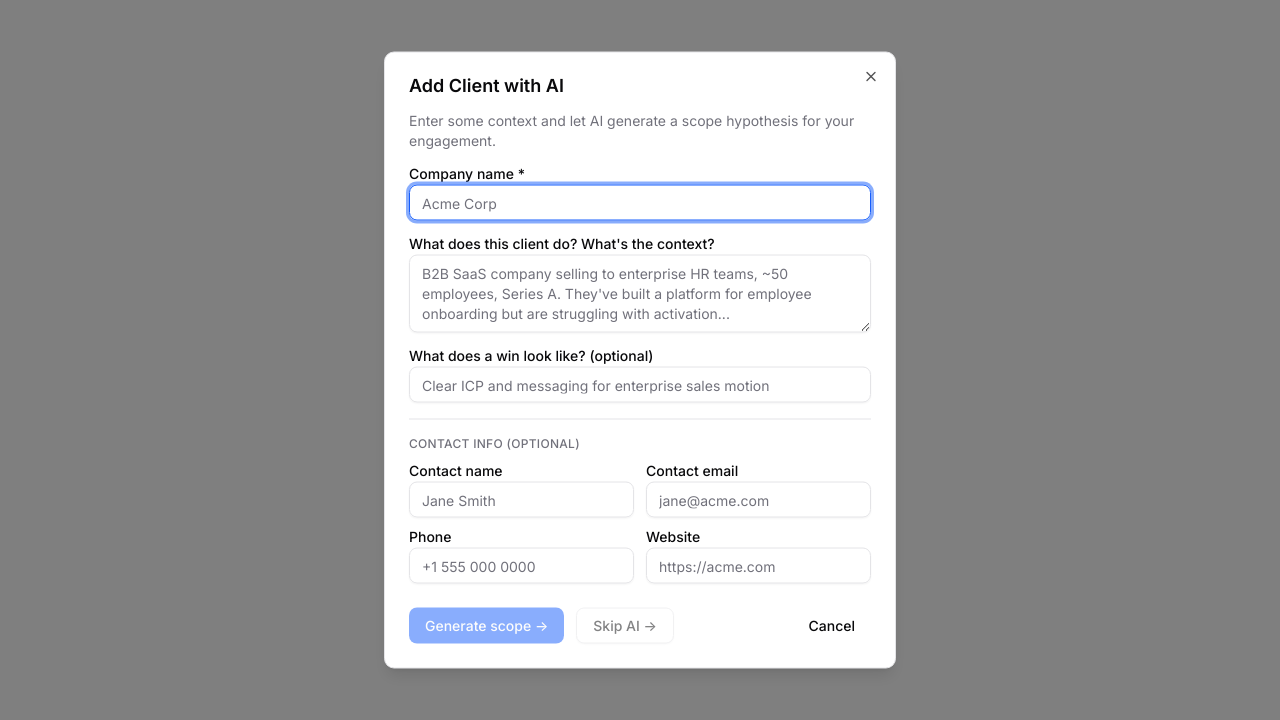
Test case: ClientIntakeWizard — Step 2 error handling › shows Settings mention on 422 API key error
Type "Acme" into the field labelled "Company name *" at {"x": 640, "y": 202}, box [409,184,871,220]
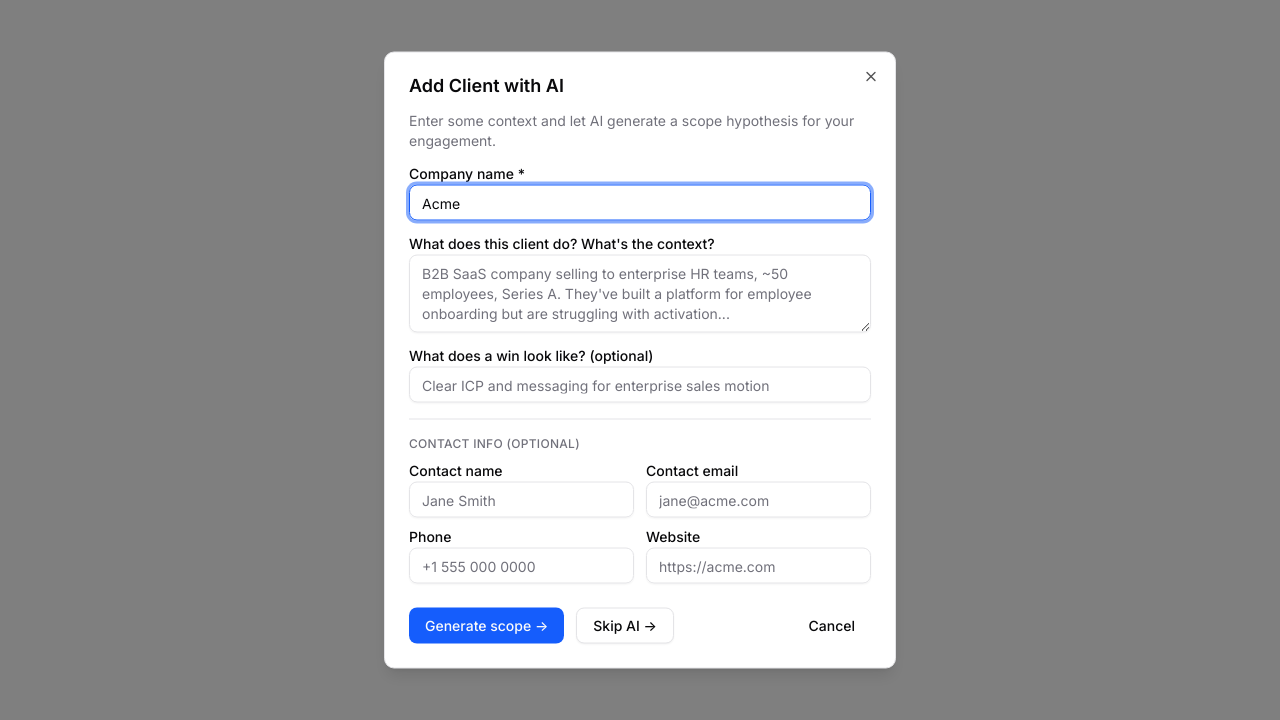
Click the button "Generate scope →" at {"x": 487, "y": 626}, box [409,608,564,644]
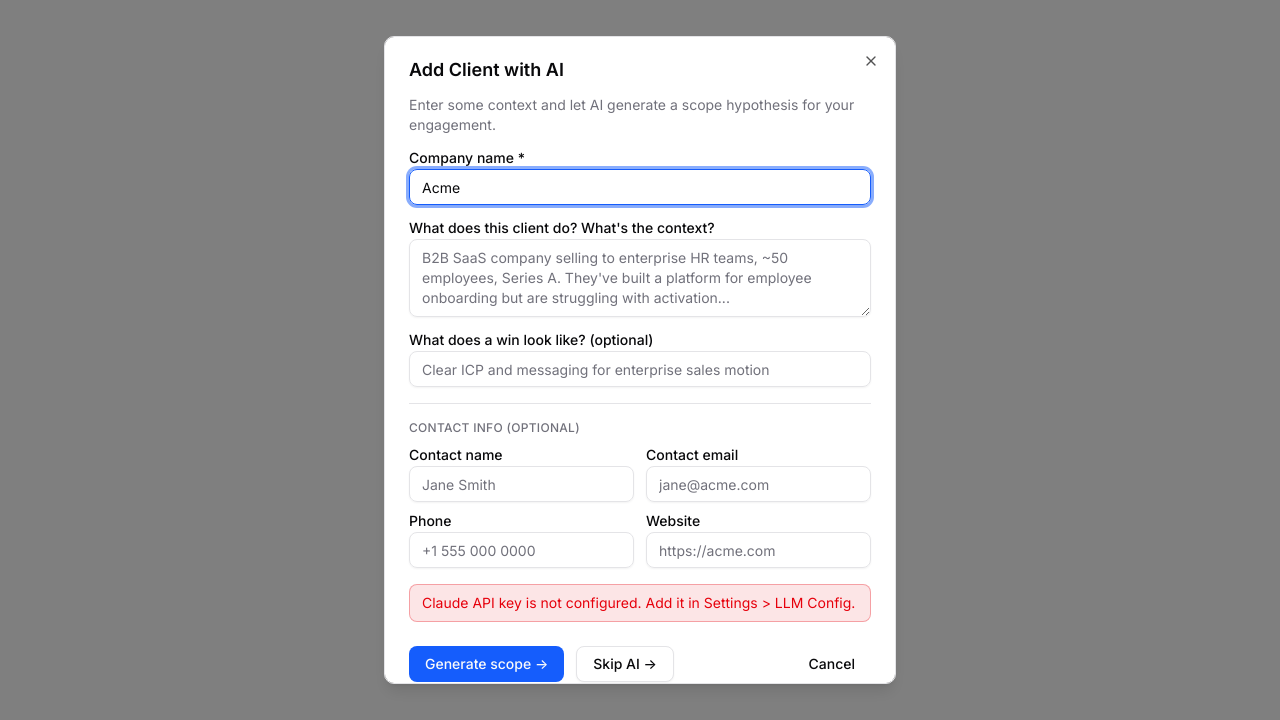
Result: the text "Claude API key is not configured. Add it in Settings > LLM Config." is shown at [409,584,871,622]
